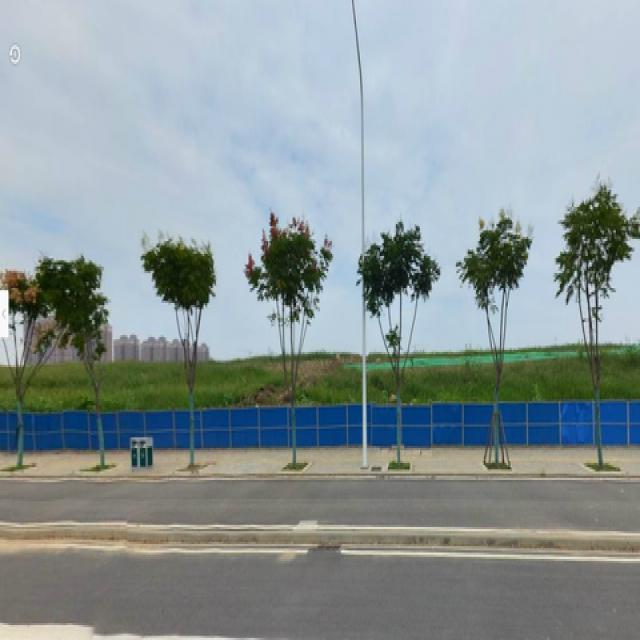koel: (247, 212, 333, 454), (143, 224, 213, 465)
